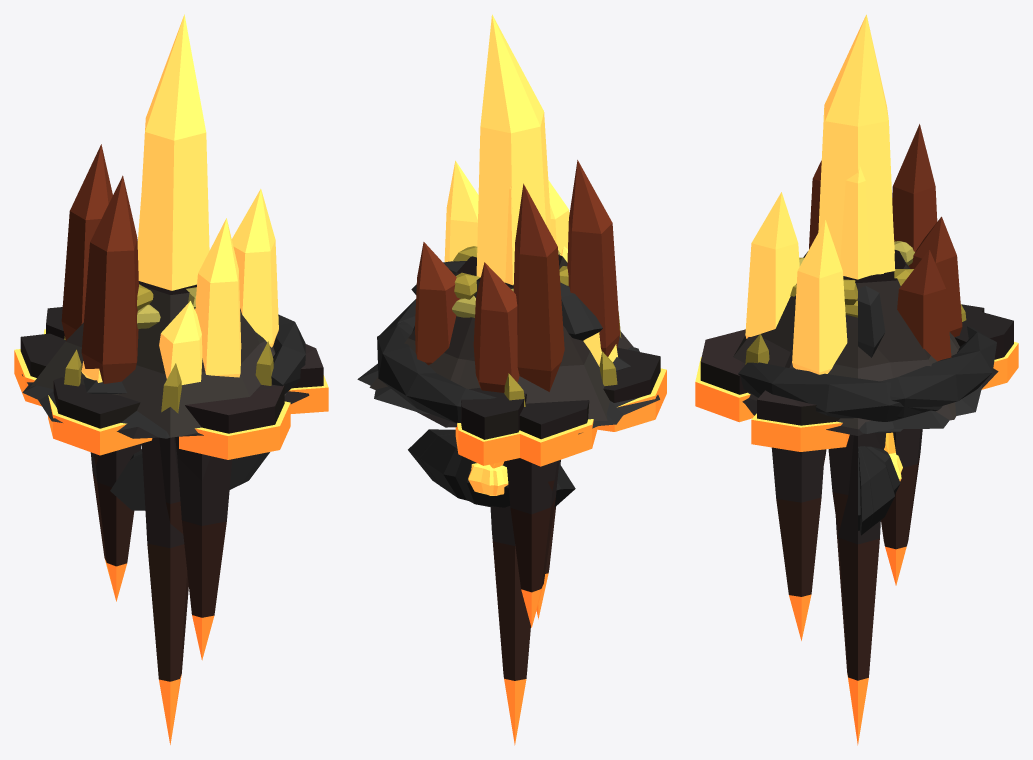
The model's file is volcanic.glb.
3 views of the same model, side by side, from view 1: azimuth 30°, elevation 25°; view 2: azimuth 150°, elevation 25°; view 3: azimuth 270°, elevation 25° (orthographic). The views are drawn at different scales.
Visible parts, largest first — view 1: volcanic_fire_crystal_b, volcanic_lava_stalactite_b, volcanic_fire_crystal_a, volcanic_sulfur_vent_b, volcanic_lava_crust_a, volcanic_lava_crust_b, volcanic_sulfur_vent_a, volcanic_rope_lava_a, volcanic_lava_stalactite_a, volcanic_magma_seep_a, volcanic_rope_lava_b, volcanic_magma_seep_b; view 2: volcanic_fire_crystal_b, volcanic_fire_crystal_a, volcanic_lava_stalactite_b, volcanic_lava_crust_b, volcanic_rope_lava_b, volcanic_sulfur_vent_a, volcanic_magma_seep_b, volcanic_lava_crust_a, volcanic_sulfur_vent_b, volcanic_magma_seep_a, volcanic_rope_lava_a; view 3: volcanic_fire_crystal_b, volcanic_lava_stalactite_b, volcanic_fire_crystal_a, volcanic_sulfur_vent_b, volcanic_rope_lava_a, volcanic_lava_crust_b, volcanic_rope_lava_b, volcanic_magma_seep_b, volcanic_lava_crust_a, volcanic_sulfur_vent_a, volcanic_lava_stalactite_a, volcanic_magma_seep_a.
Part boxes in pixels (x1,y1,x2,y2): volcanic_fire_crystal_b: [81, 14, 278, 384]; volcanic_lava_stalactite_b: [90, 437, 232, 744]; volcanic_fire_crystal_a: [61, 144, 241, 393]; volcanic_sulfur_vent_b: [64, 281, 286, 437]; volcanic_lava_crust_a: [14, 333, 290, 459]; volcanic_lava_crust_b: [44, 307, 328, 455]; volcanic_sulfur_vent_a: [30, 304, 275, 413]; volcanic_rope_lava_a: [22, 314, 305, 400]; volcanic_lava_stalactite_a: [93, 436, 210, 533]; volcanic_magma_seep_a: [116, 449, 260, 509]; volcanic_rope_lava_b: [22, 374, 169, 438]; volcanic_magma_seep_b: [110, 452, 269, 510]; volcanic_fire_crystal_b: [444, 14, 619, 392]; volcanic_fire_crystal_a: [415, 180, 630, 391]; volcanic_lava_stalactite_b: [490, 458, 560, 745]; volcanic_lava_crust_b: [455, 347, 666, 465]; volcanic_rope_lava_b: [357, 321, 659, 434]; volcanic_sulfur_vent_a: [412, 296, 621, 420]; volcanic_magma_seep_b: [408, 261, 594, 507]; volcanic_lava_crust_a: [518, 400, 597, 466]; volcanic_sulfur_vent_b: [369, 246, 633, 389]; volcanic_magma_seep_a: [419, 282, 602, 507]; volcanic_rope_lava_a: [374, 299, 623, 425]; volcanic_fire_crystal_b: [792, 14, 962, 374]; volcanic_lava_stalactite_b: [771, 429, 922, 745]; volcanic_fire_crystal_a: [745, 124, 951, 361]; volcanic_sulfur_vent_b: [733, 241, 958, 420]; volcanic_rope_lava_a: [738, 362, 981, 433]; volcanic_lava_crust_b: [751, 312, 1018, 451]; volcanic_rope_lava_b: [881, 326, 996, 429]; volcanic_magma_seep_b: [858, 277, 901, 535]; volcanic_lava_crust_a: [695, 304, 984, 422]; volcanic_sulfur_vent_a: [785, 284, 966, 429]; volcanic_lava_stalactite_a: [799, 433, 886, 533]; volcanic_magma_seep_a: [858, 432, 902, 530].
Size of the model in its own units: 0.7088 by 1.88 by 0.7434.
